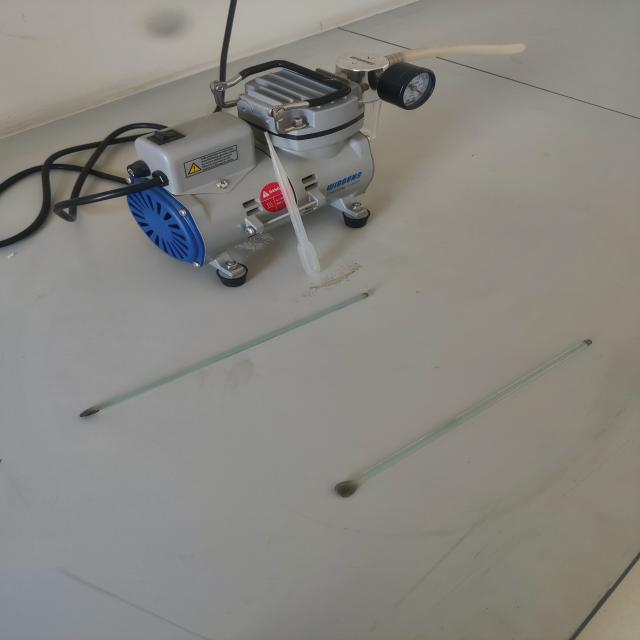Glass_Rod: (309, 311, 615, 514), (53, 276, 440, 427)
Pipette: (254, 101, 345, 306)
